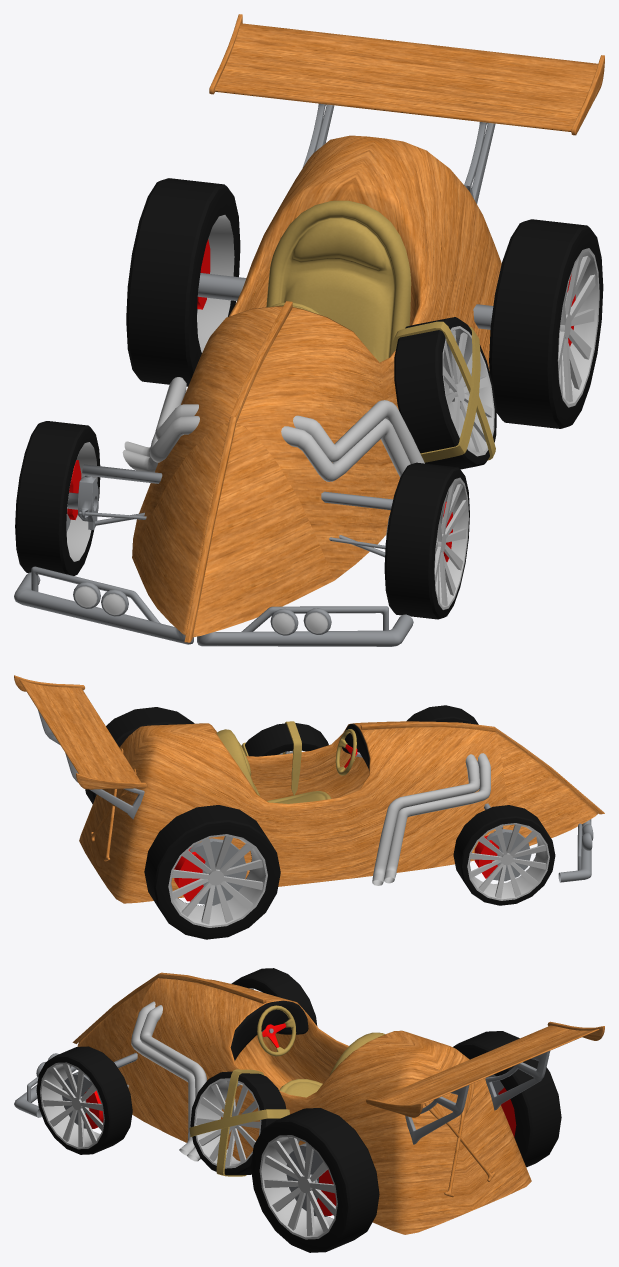
Rendered from Sangkuriang_CarScalePose.fbx.
3 views of the same model, one above another, from view 1: azimuth 30°, elevation 25°; view 2: azimuth 150°, elevation 25°; view 3: azimuth 270°, elevation 25° (orthographic). The views are drawn at different scales.
Visible parts, largest first — view 1: base; view 2: base; view 3: base.
Boxes of the visible parts, x1,y1,x2,y2 form: base: (14,14,604,646); base: (14,675,604,939); base: (14,968,604,1252).
Bounding box in the file's own units: 2647 × 2647 × 918.
